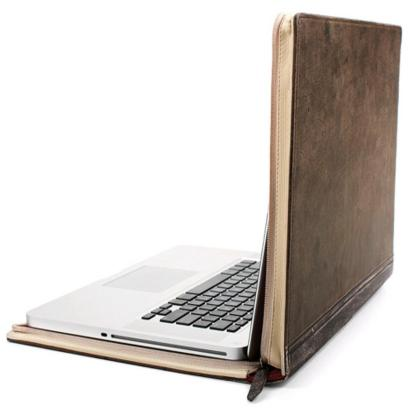board: (26, 68, 270, 361)
